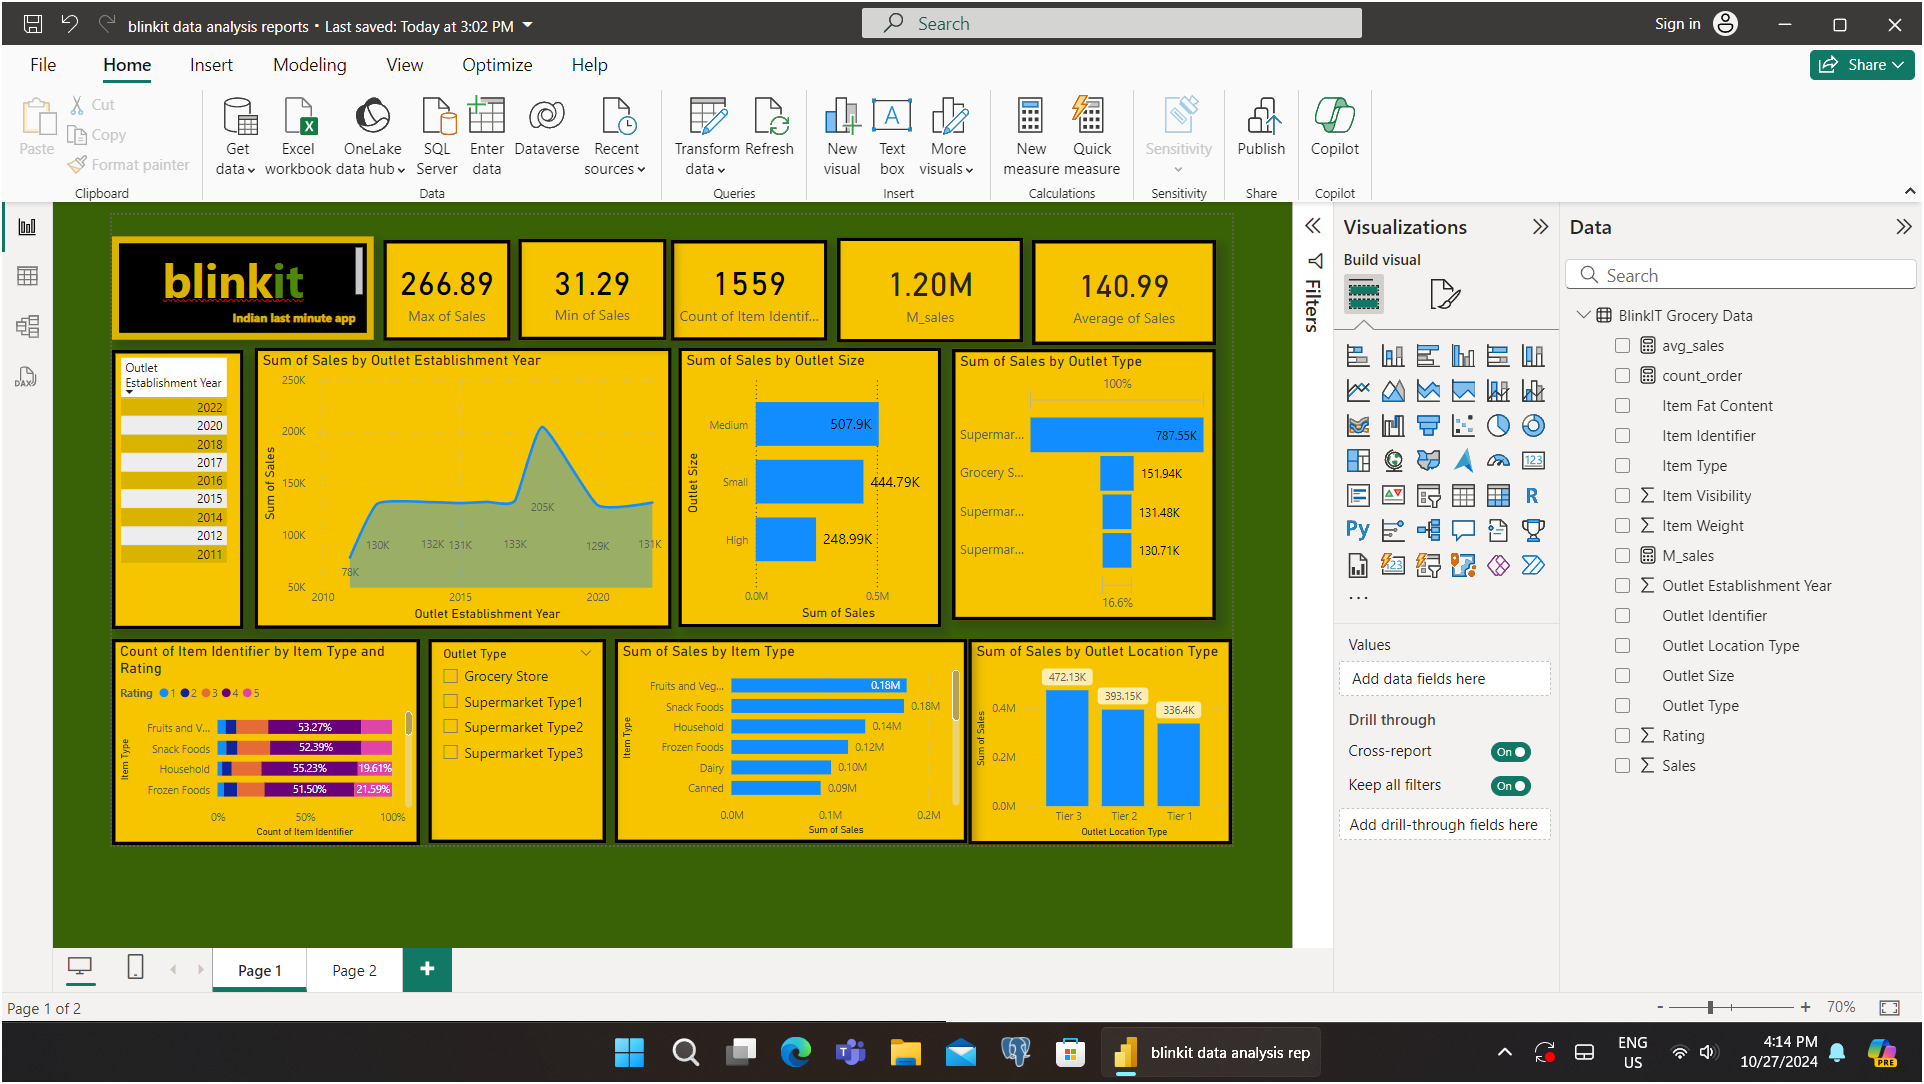

This screenshot's page, from the dashboard's own definition file:
{"tool":"powerbi","page":{"name":"Page 1","canvas":[1280,720],"ordinal":0},"visuals":[{"type":"card","fields":{"Values":["BlinkIT Grocery Data.M_sales"]},"box":[828.1,25.8,213.2,120.1],"z":0},{"type":"card","fields":{"Values":["Avg(BlinkIT Grocery Data.Sales)"]},"box":[1051.6,28.4,210.6,120.1],"z":1000},{"type":"card","fields":{"Values":["Count(BlinkIT Grocery Data.Item Identifier)"]},"box":[638.2,28.4,179.6,115],"z":2000},{"type":"stackedAreaChart","fields":{"Category":["BlinkIT Grocery Data.Outlet Establishment Year"],"Y":["Sum(BlinkIT Grocery Data.Sales)"]},"box":[162.6,151.6,476.9,321.6],"z":3000},{"type":"card","fields":{"Values":["Min(BlinkIT Grocery Data.Sales)"]},"box":[463.8,27.1,169.2,116.3],"z":4000},{"type":"card","fields":{"Values":["Max(BlinkIT Grocery Data.Sales)"]},"box":[309.4,28.1,145.5,114.9],"z":5000},{"type":"lineStackedColumnComboChart","fields":{"Category":["BlinkIT Grocery Data.Outlet Location Type"],"Y":["Sum(BlinkIT Grocery Data.Sales)"]},"box":[978,484.3,302,235.3],"z":6000},{"type":"clusteredBarChart","fields":{"Category":["BlinkIT Grocery Data.Item Type"],"Y":["Sum(BlinkIT Grocery Data.Sales)"]},"box":[574.7,484.2,403.5,233.6],"z":7000},{"type":"funnel","fields":{"Category":["BlinkIT Grocery Data.Outlet Type"],"Y":["Sum(BlinkIT Grocery Data.Sales)"]},"box":[960,153.3,301.7,310],"z":8000},{"type":"barChart","fields":{"Category":["BlinkIT Grocery Data.Outlet Size"],"Y":["Sum(BlinkIT Grocery Data.Sales)"]},"box":[646.9,151.6,300.8,320.4],"z":9000},{"type":"tableEx","fields":{"Values":["BlinkIT Grocery Data.Outlet Establishment Year"]},"box":[0,154.1,150.4,319.2],"z":10000},{"type":"slicer","fields":{"Values":["BlinkIT Grocery Data.Outlet Type"]},"box":[362,484.2,203,233.6],"z":11000},{"type":"hundredPercentStackedBarChart","fields":{"Category":["BlinkIT Grocery Data.Item Type"],"Y":["Count(BlinkIT Grocery Data.Item Identifier)"],"Series":["BlinkIT Grocery Data.Rating"]},"box":[0,484.2,352.2,236],"z":12000},{"type":"textbox","box":[0,24.5,299.6,118.6],"z":13000}]}

Visuals, with their boxes on the page's 1280x720 design canvas (x1, y1, x2, y2). These are canvas units, not pixel positions in the 1924x1084 screenshot, which may show the page scaled, cropped or inside an application window:
card - BlinkIT Grocery Data.M_sales: (left=828, top=26, right=1041, bottom=146)
card - Avg(BlinkIT Grocery Data.Sales): (left=1052, top=28, right=1262, bottom=148)
card - Count(BlinkIT Grocery Data.Item Identifier): (left=638, top=28, right=818, bottom=143)
stackedAreaChart - BlinkIT Grocery Data.Outlet Establishment Year x Sum(BlinkIT Grocery Data.Sales): (left=163, top=152, right=640, bottom=473)
card - Min(BlinkIT Grocery Data.Sales): (left=464, top=27, right=633, bottom=143)
card - Max(BlinkIT Grocery Data.Sales): (left=309, top=28, right=455, bottom=143)
lineStackedColumnComboChart - BlinkIT Grocery Data.Outlet Location Type x Sum(BlinkIT Grocery Data.Sales): (left=978, top=484, right=1280, bottom=720)
clusteredBarChart - BlinkIT Grocery Data.Item Type x Sum(BlinkIT Grocery Data.Sales): (left=575, top=484, right=978, bottom=718)
funnel - BlinkIT Grocery Data.Outlet Type x Sum(BlinkIT Grocery Data.Sales): (left=960, top=153, right=1262, bottom=463)
barChart - BlinkIT Grocery Data.Outlet Size x Sum(BlinkIT Grocery Data.Sales): (left=647, top=152, right=948, bottom=472)
tableEx - BlinkIT Grocery Data.Outlet Establishment Year: (left=0, top=154, right=150, bottom=473)
slicer - BlinkIT Grocery Data.Outlet Type: (left=362, top=484, right=565, bottom=718)
hundredPercentStackedBarChart - BlinkIT Grocery Data.Item Type x Count(BlinkIT Grocery Data.Item Identifier): (left=0, top=484, right=352, bottom=720)
textbox: (left=0, top=24, right=300, bottom=143)
